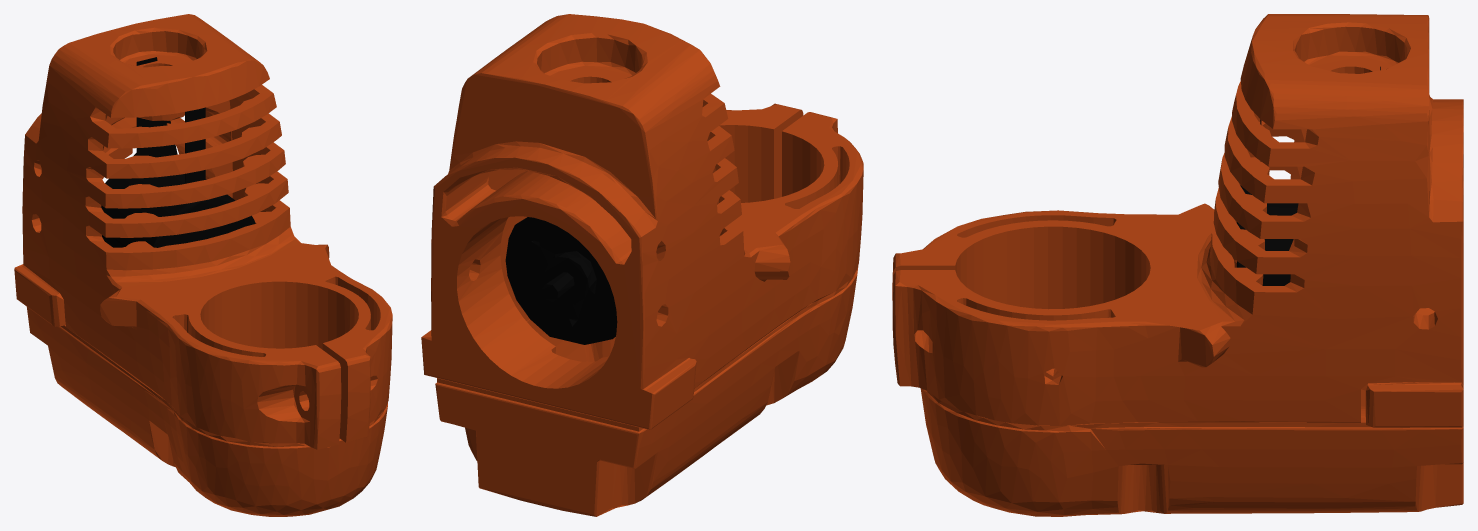
3 renders of one model, left to right at view 1: azimuth 30°, elevation 25°; view 2: azimuth 150°, elevation 25°; view 3: azimuth 270°, elevation 25°, orthographic. The views are drawn at different scales.
Parts seen in each view (by area): view 1: arm_joint_4; view 2: arm_joint_4; view 3: arm_joint_4.
Boxes of the visible parts, left/top/right/bottom form: arm_joint_4: left=14, top=14, right=392, bottom=516; arm_joint_4: left=421, top=14, right=863, bottom=516; arm_joint_4: left=892, top=14, right=1463, bottom=516.
Bounding box in the file's own units: 0.0669 × 0.1168 × 0.0987.
